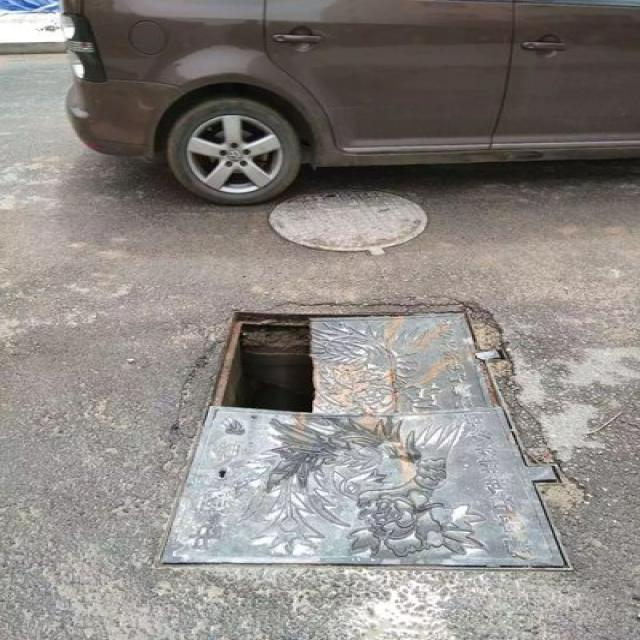manhole: (142, 298, 581, 576)
